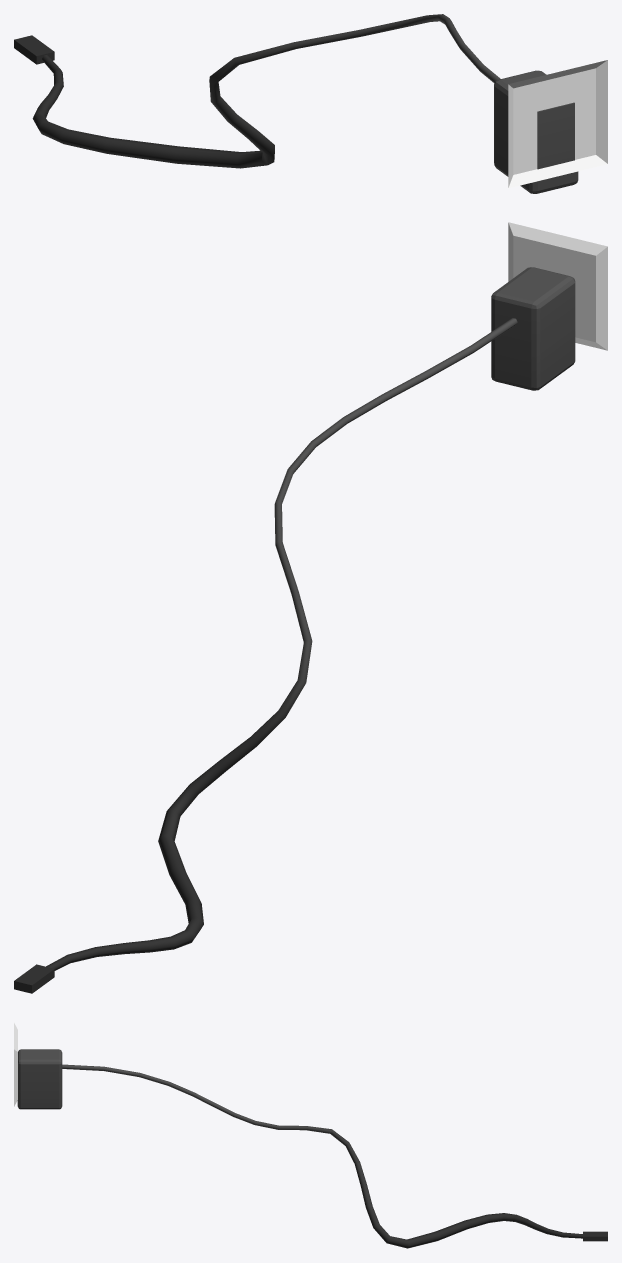
Rendered from SM_CargadorMovil.fbx.
3 views of the same model, one above another, from view 1: azimuth 30°, elevation 25°; view 2: azimuth 150°, elevation 25°; view 3: azimuth 270°, elevation 25° (orthographic). The views are drawn at different scales.
Visible parts, largest first — view 1: CargadorMovil; view 2: CargadorMovil; view 3: CargadorMovil.
Part boxes in pixels (x1,y1,x2,y2): CargadorMovil: [14, 14, 607, 193]; CargadorMovil: [14, 222, 607, 993]; CargadorMovil: [14, 1023, 607, 1248].
Size of the model in its own units: 8.73 by 20.39 by 53.68.
